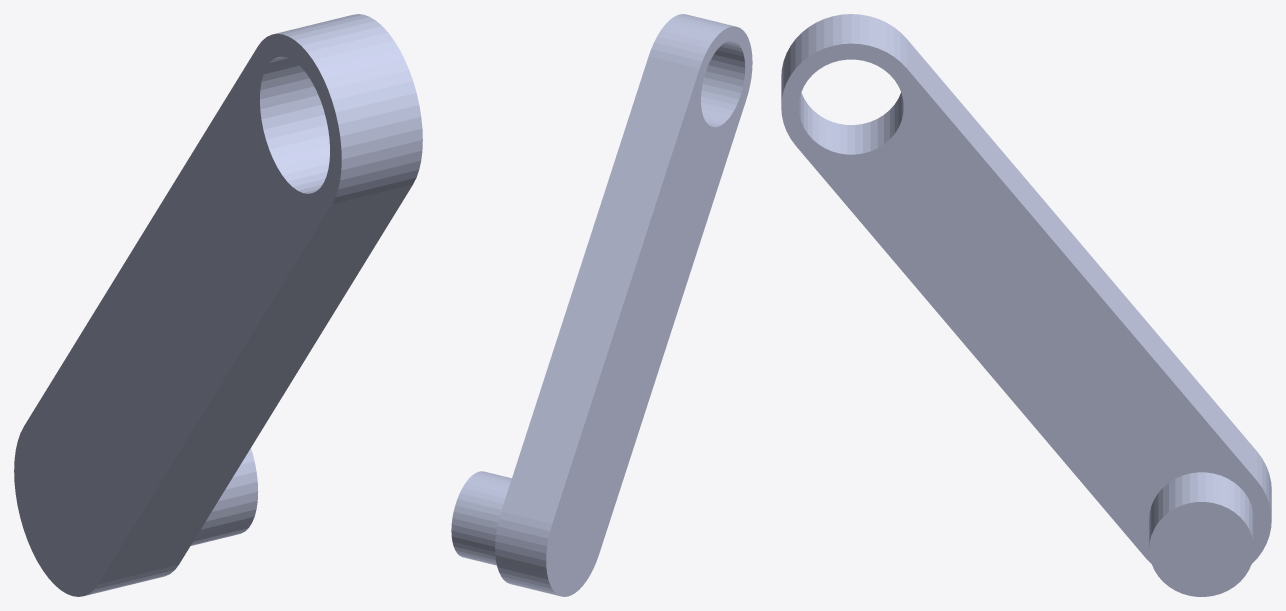
The model's file is Pieza_resorteV1.1.dae.
3 views of the same model, side by side, from view 1: azimuth 30°, elevation 25°; view 2: azimuth 150°, elevation 25°; view 3: azimuth 270°, elevation 25° (orthographic). The views are drawn at different scales.
Visible parts, largest first — view 1: ID2; view 2: ID2; view 3: ID2.
Boxes of the visible parts, bbox=[...] form: ID2: bbox=[14, 14, 422, 596]; ID2: bbox=[451, 14, 752, 596]; ID2: bbox=[781, 14, 1271, 596].
Size of the model in its own units: 0.02 by 0.07 by 0.085.
